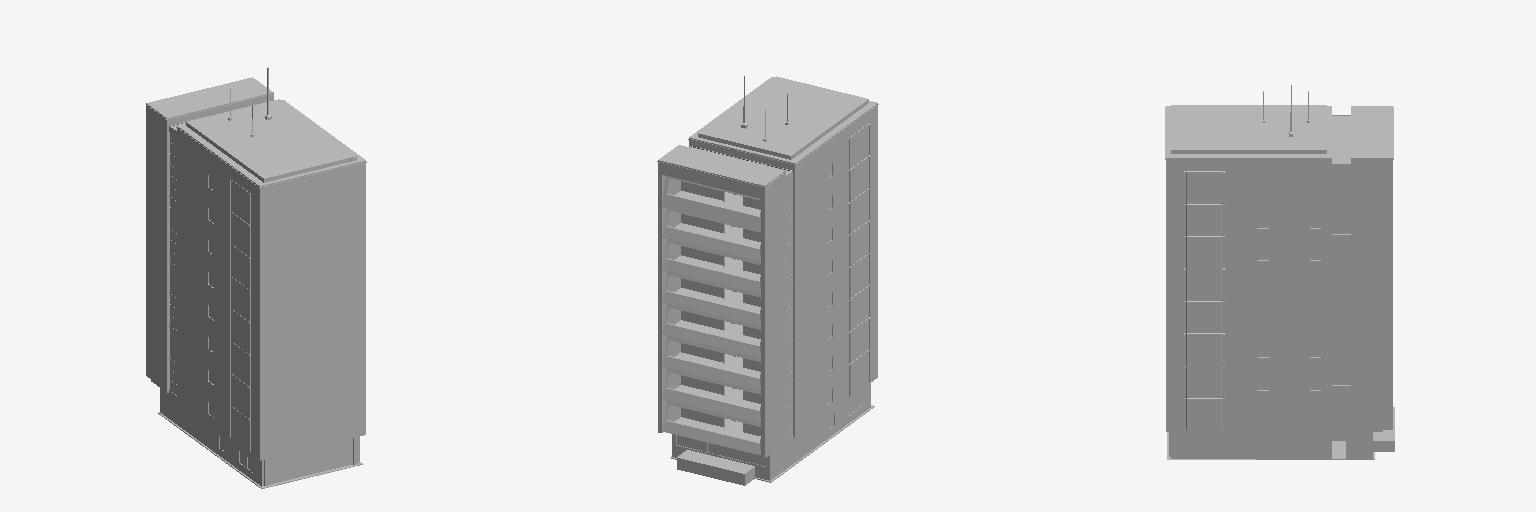
File: Residential Buildings 005.obj
The picture shows the model from 3 angles: view 1: azimuth 30°, elevation 25°; view 2: azimuth 150°, elevation 25°; view 3: azimuth 270°, elevation 25°; orthographic projection.
Parts seen in each view (by area): view 1: Residential_Buildings_005_Cube.006; view 2: Residential_Buildings_005_Cube.006; view 3: Residential_Buildings_005_Cube.006.
Boxes of the visible parts, x1=… form: Residential_Buildings_005_Cube.006: x1=146, y1=67, x2=366, y2=488; Residential_Buildings_005_Cube.006: x1=657, y1=76, x2=878, y2=485; Residential_Buildings_005_Cube.006: x1=1165, y1=85, x2=1394, y2=459.
Size of the model in its own units: 12.59 by 39.99 by 23.1.